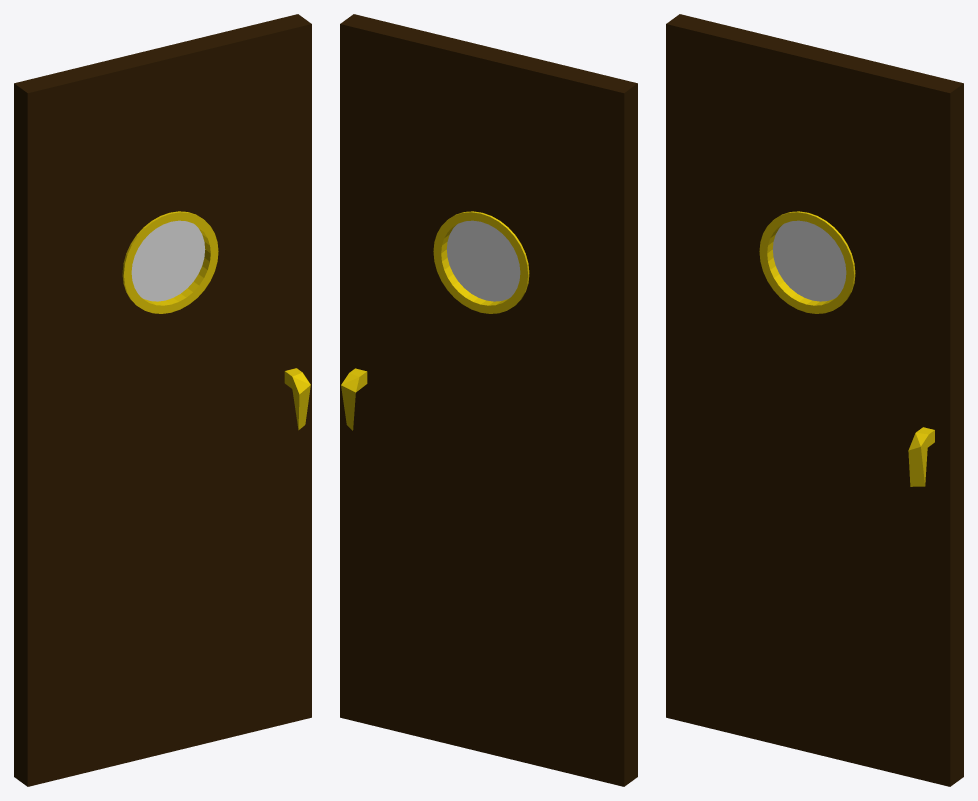
Rendered from Door - Porthole.glb.
3 renders of one model, left to right at view 1: azimuth 30°, elevation 25°; view 2: azimuth 150°, elevation 25°; view 3: azimuth 330°, elevation 25°, orthographic.
Visible parts, largest first — view 1: Door, Handle; view 2: Door, Handle; view 3: Door, Handle.
Boxes of the visible parts, left/top/right/bottom form: Door: left=14, top=14, right=311, bottom=786; Handle: left=284, top=368, right=310, bottom=430; Door: left=340, top=14, right=637, bottom=786; Handle: left=341, top=368, right=367, bottom=430; Door: left=666, top=14, right=963, bottom=786; Handle: left=908, top=427, right=934, bottom=486.
Size of the model in its own units: 0.9144 by 2.13 by 0.2379.
